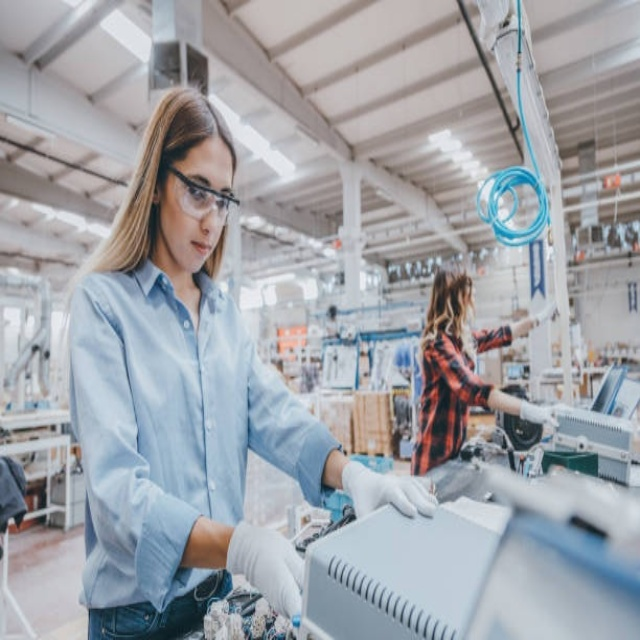Gafas: (166, 167, 241, 228)
Guantes: (220, 511, 313, 621), (341, 455, 439, 529), (518, 391, 568, 433)
Sin_mascara: (181, 229, 211, 267)
